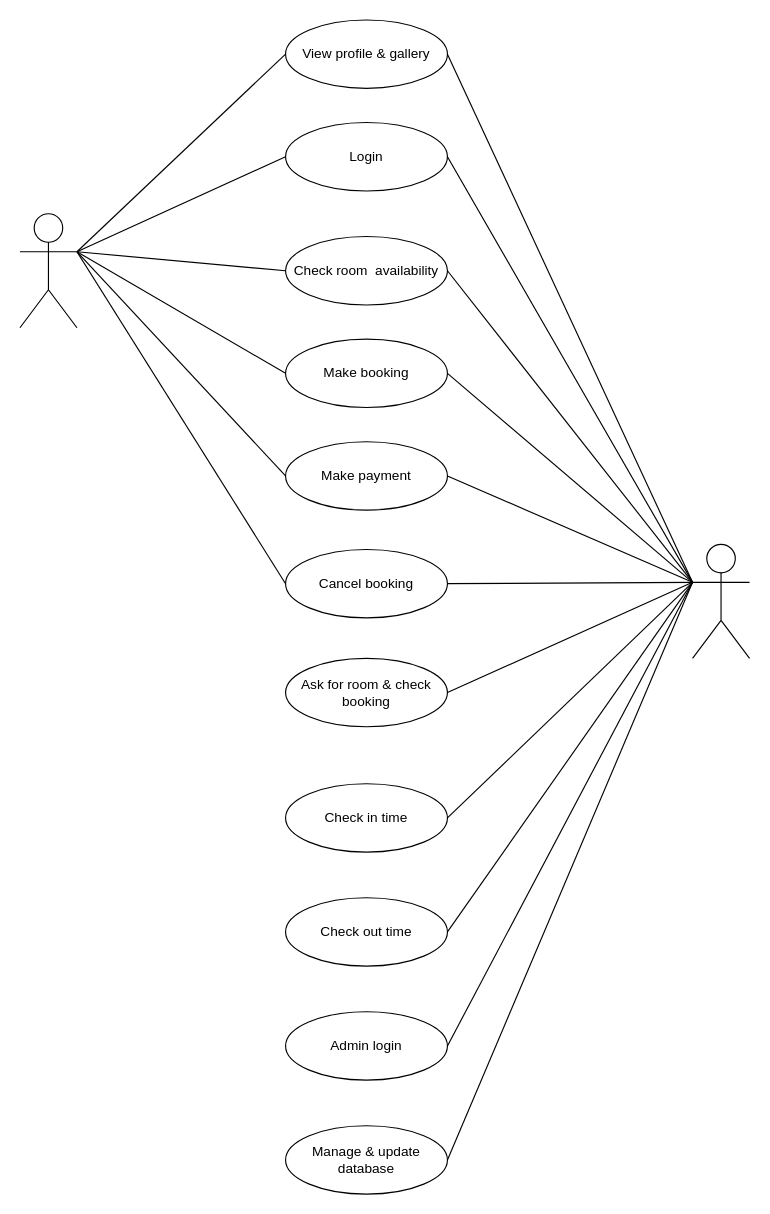
The diagram is 770 pixels wide and 1214 high, and some of its shapes have lost their labels. The shapes that lost their labels are listed below. From the top down, each one's centre as x and y in pixels, then its label:
(x=48, y=270): User
(x=720, y=600): Admin
